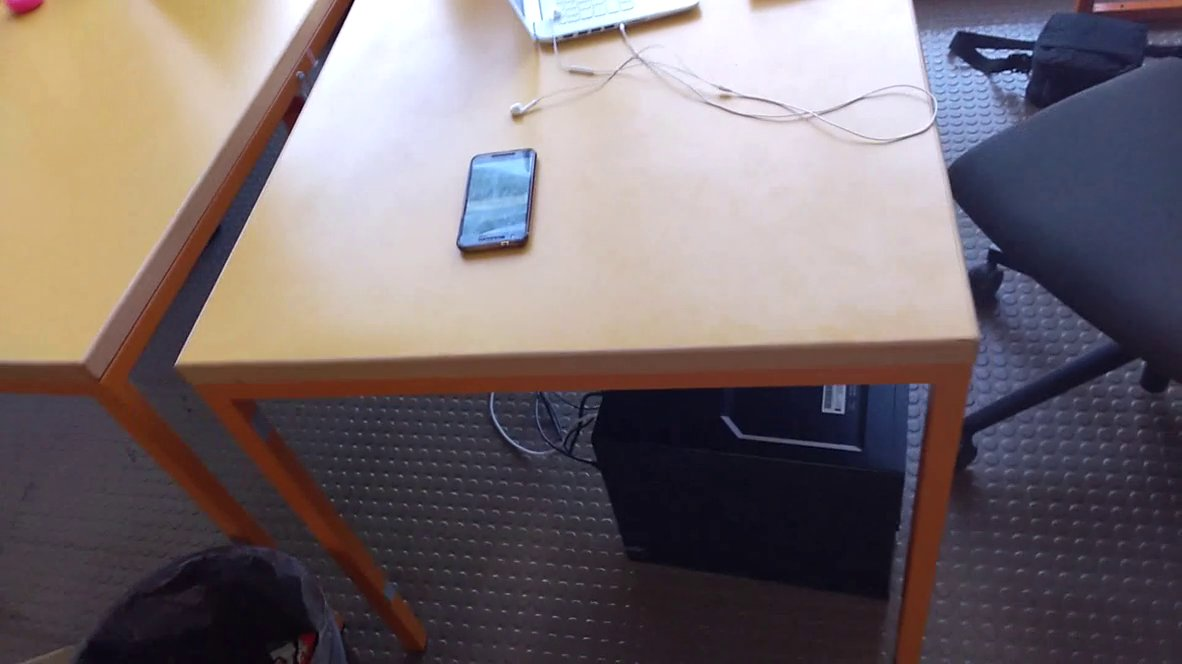phone: (444, 141, 548, 259)
